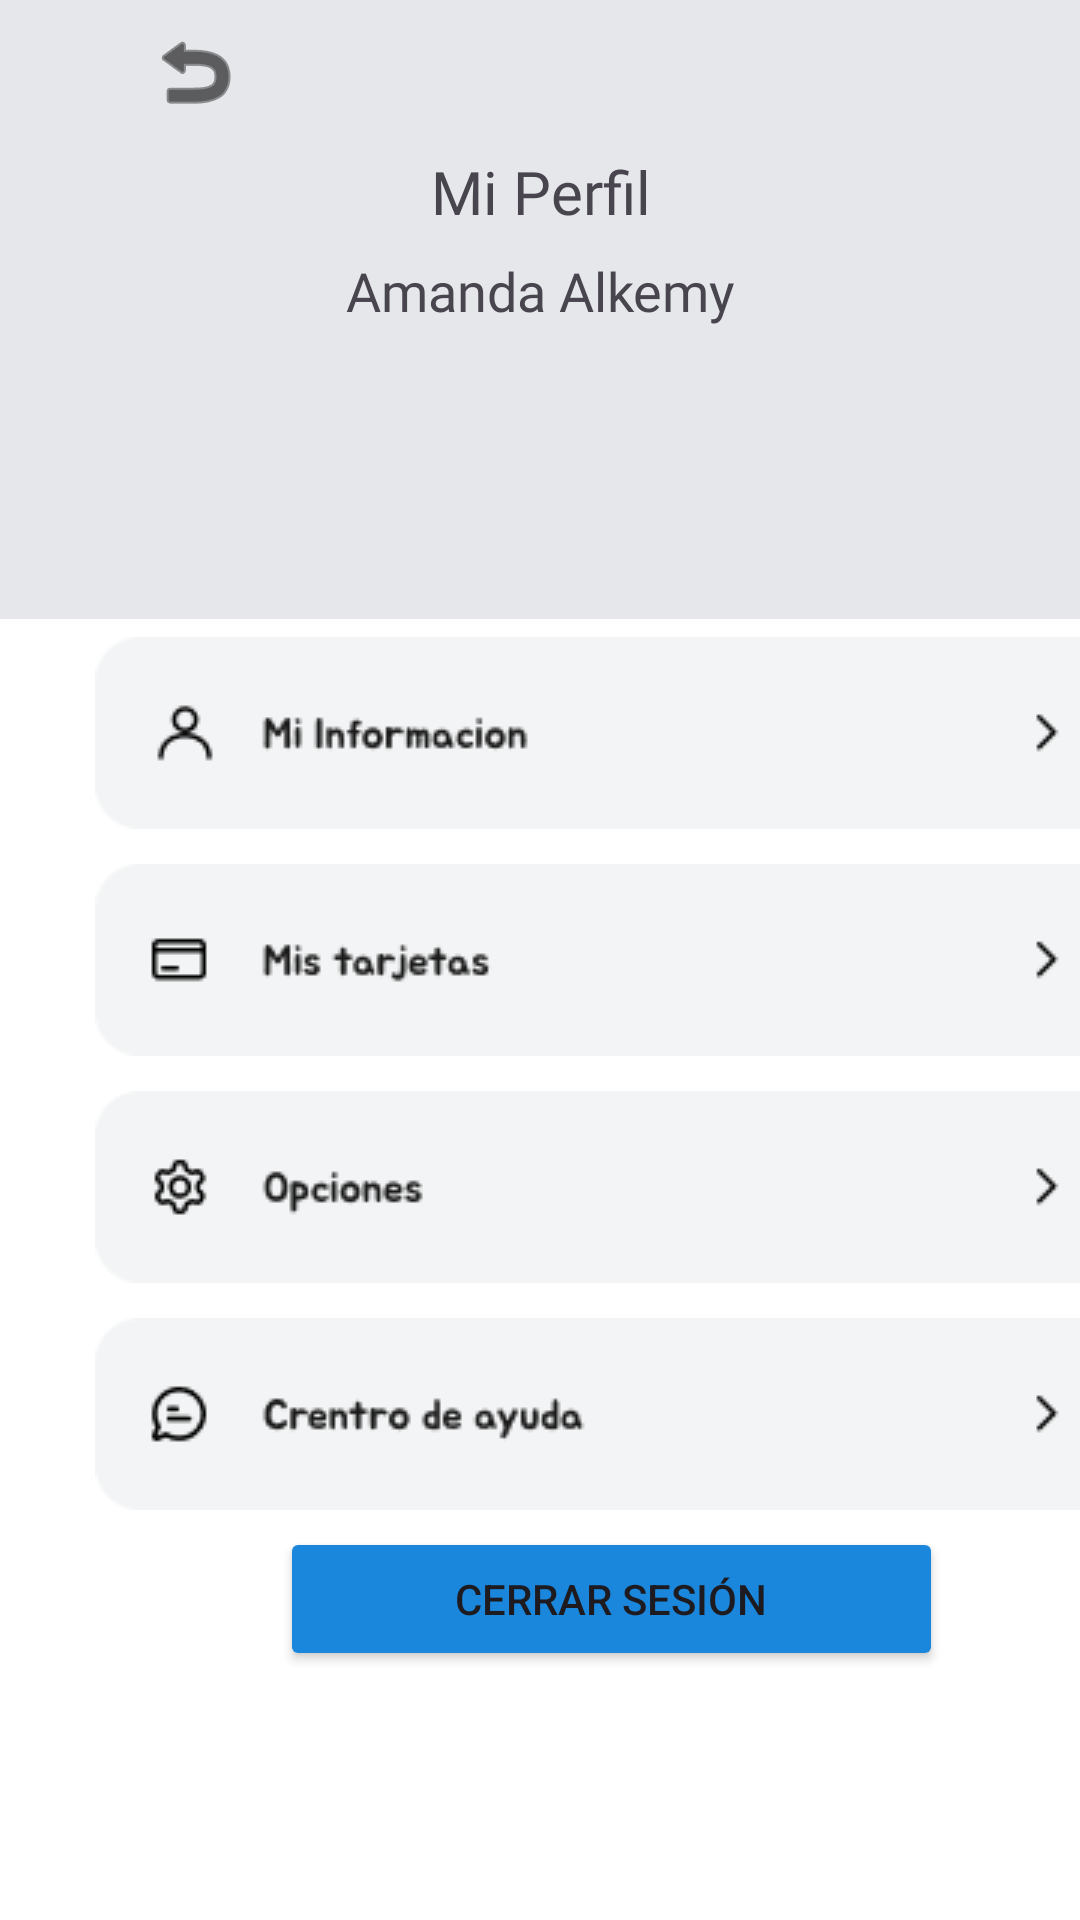

Named icons in this screenshot (1080x1920) and their centers, (x=x, y=y):
revert: (x=196, y=72)
